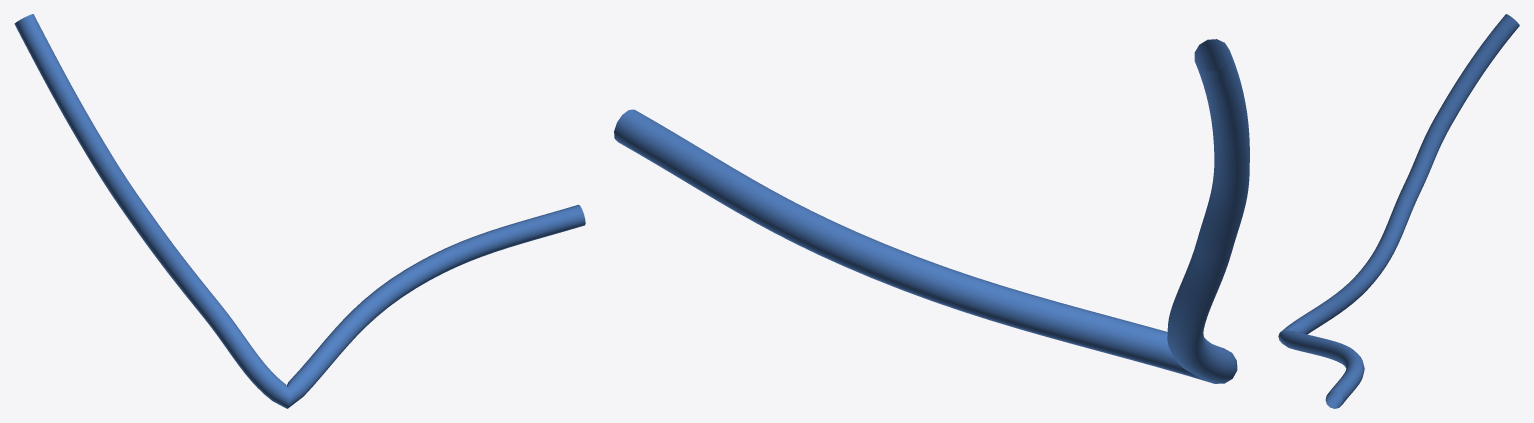
The picture shows the model from 3 angles, left to right: view 1: azimuth 30°, elevation 25°; view 2: azimuth 150°, elevation 25°; view 3: azimuth 270°, elevation 25°; orthographic projection. The views are drawn at different scales.
Visible parts, largest first — view 1: 右侧足底静脉弓; view 2: 右侧足底静脉弓; view 3: 右侧足底静脉弓.
Part boxes in pixels (x1,y1,x2,y2): 右侧足底静脉弓: (14, 14, 585, 408); 右侧足底静脉弓: (614, 39, 1249, 383); 右侧足底静脉弓: (1278, 14, 1519, 408).
Bounding box in the file's own units: 0.0654 × 0.0444 × 0.0349.
